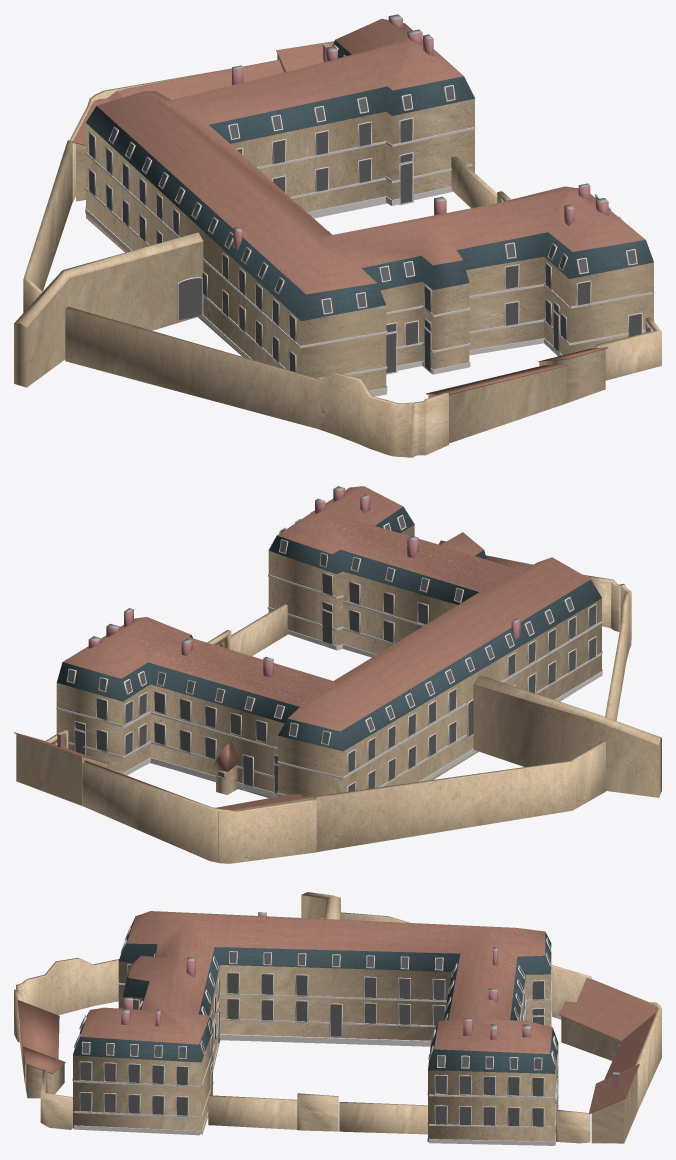
The model's file is ilotB42combine.fbx.
3 views of the same model, one above another, from view 1: azimuth 30°, elevation 25°; view 2: azimuth 150°, elevation 25°; view 3: azimuth 270°, elevation 25° (orthographic). The views are drawn at different scales.
Parts seen in each view (by area): view 1: _ILOTB42BAT1, MUR10, _ILOTB42BAT12, _ILOTB42BAT8, MUR4, _ILOTB42BAT3, MUR9, _ILOTB42BAT11, MUR5, _ILOTB42BAT2, MUR13; view 2: _ILOTB42BAT1, MUR4, _ILOTB42BAT12, MUR13, _ILOTB42BAT2, MUR10, MUR7, _ILOTB42BAT14, _ILOTB42BAT3; view 3: _ILOTB42BAT1, _ILOTB42BAT3, MUR10, _ILOTB42BAT2, MUR7, MUR5, _ILOTB42BAT8, MUR4, MUR6, _ILOTB42BAT11, MUR13, MUR9 (+2 smaller).
Boxes of the visible parts, x1,y1,x2,y2 form: _ILOTB42BAT1: (85, 14, 654, 396); MUR10: (65, 306, 448, 457); _ILOTB42BAT12: (14, 232, 203, 387); _ILOTB42BAT8: (426, 364, 567, 443); MUR4: (23, 140, 72, 312); _ILOTB42BAT3: (72, 60, 283, 201); MUR9: (595, 317, 661, 380); _ILOTB42BAT11: (538, 347, 607, 402); MUR5: (451, 156, 497, 208); _ILOTB42BAT2: (276, 41, 334, 72); MUR13: (69, 68, 230, 201); _ILOTB42BAT1: (56, 486, 602, 798); MUR4: (315, 741, 605, 851); _ILOTB42BAT12: (473, 676, 661, 797); MUR13: (82, 762, 316, 863); _ILOTB42BAT2: (14, 731, 108, 805); MUR10: (588, 576, 631, 720); MUR7: (230, 604, 287, 655); _ILOTB42BAT14: (212, 741, 239, 794); _ILOTB42BAT3: (84, 760, 316, 862); _ILOTB42BAT1: (72, 911, 558, 1145); _ILOTB42BAT3: (559, 977, 656, 1079); MUR10: (14, 917, 322, 1042); _ILOTB42BAT2: (589, 1064, 639, 1143); MUR7: (208, 1095, 297, 1129); MUR5: (339, 1102, 427, 1134); _ILOTB42BAT8: (17, 1000, 59, 1082); MUR4: (341, 912, 591, 1019); MUR6: (297, 1093, 338, 1131); _ILOTB42BAT11: (23, 1046, 65, 1098); MUR13: (591, 979, 661, 1110); MUR9: (40, 1069, 72, 1129).
Size of the model in its own units: 11.8 by 3.24 by 14.7.
